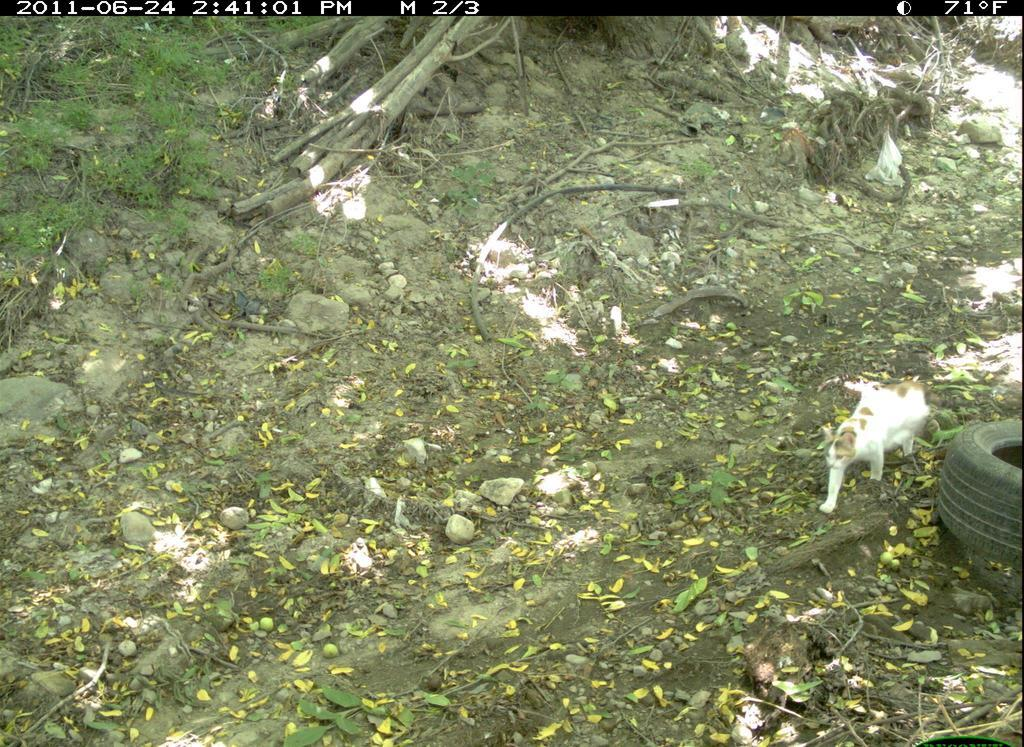cat: (810, 360, 953, 528)
